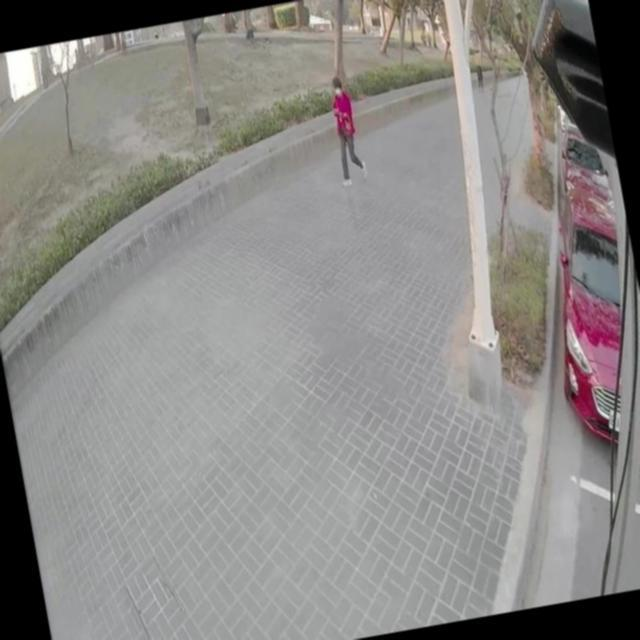person: (326, 76, 366, 182), (474, 61, 484, 92)
